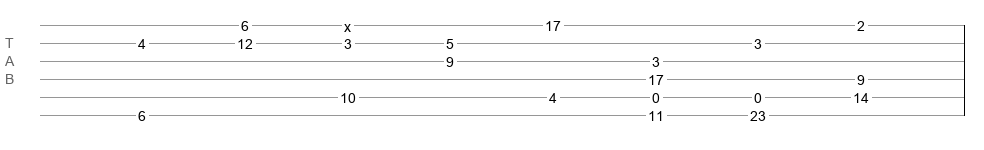0: (652, 90, 660, 100), (754, 90, 762, 100)
10: (340, 90, 356, 100)
11: (648, 108, 664, 118)
12: (237, 36, 253, 46)
14: (853, 90, 869, 100)
17: (545, 18, 561, 28), (648, 72, 664, 82)
2: (857, 18, 865, 28)
23: (750, 108, 766, 118)
3: (344, 36, 352, 46), (652, 54, 660, 64), (754, 36, 762, 46)
4: (138, 36, 146, 46), (549, 90, 557, 100)
5: (446, 36, 454, 46)
6: (138, 108, 146, 118), (241, 18, 249, 28)
9: (446, 54, 454, 64), (857, 72, 865, 82)
x: (344, 19, 351, 27)
